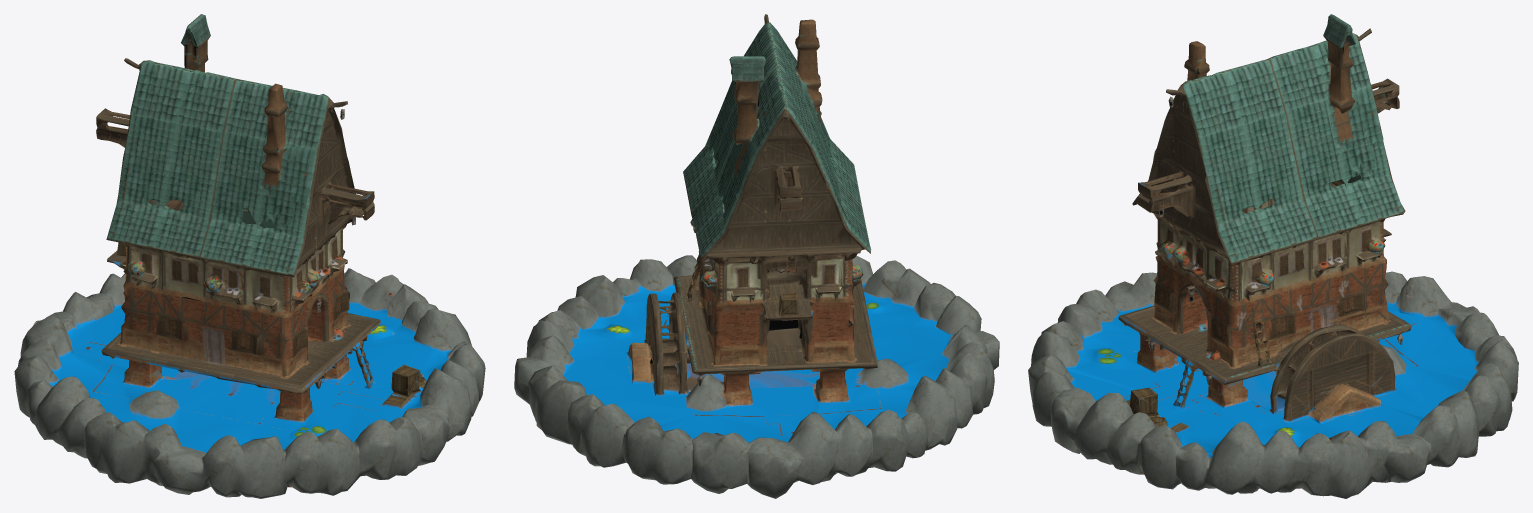
Rendered from SM_StylizedVillage2.fbx.
The picture shows the model from 3 angles, left to right: view 1: azimuth 30°, elevation 25°; view 2: azimuth 150°, elevation 25°; view 3: azimuth 270°, elevation 25°; orthographic projection. The views are drawn at different scales.
Visible parts, largest first — view 1: SM_StylizedVillage2_LOD0; view 2: SM_StylizedVillage2_LOD0; view 3: SM_StylizedVillage2_LOD0.
Part boxes in pixels (bbox=[...]): SM_StylizedVillage2_LOD0: bbox=[14, 14, 485, 498]; SM_StylizedVillage2_LOD0: bbox=[514, 14, 999, 498]; SM_StylizedVillage2_LOD0: bbox=[1028, 14, 1518, 498].
Bounding box in the file's own units: 32.95 × 34.23 × 30.12.
